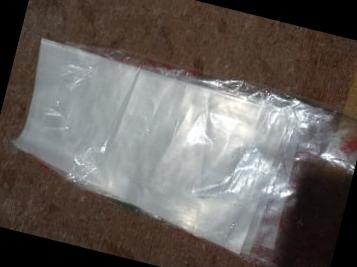Plastik: (15, 40, 331, 260)
